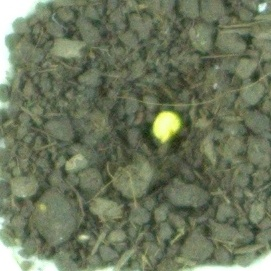chilli seed: (149, 108, 182, 145)
